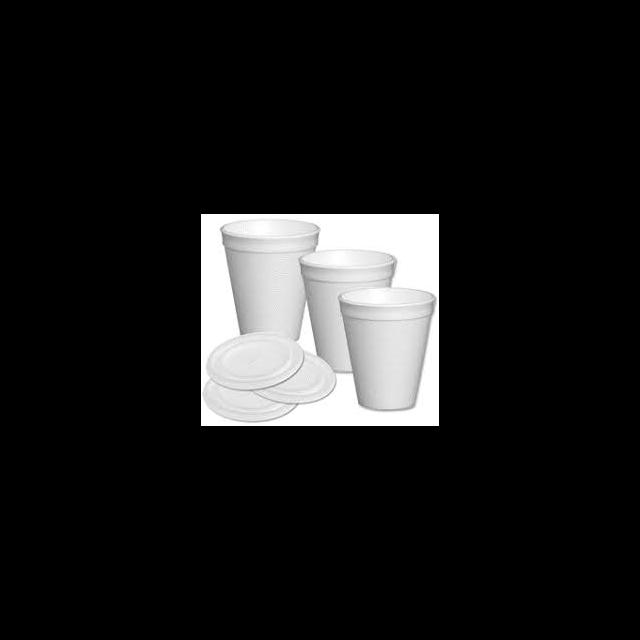paper: (219, 217, 318, 339), (297, 250, 395, 372), (339, 286, 435, 409)
plastic: (205, 329, 303, 389), (248, 350, 337, 402), (202, 378, 296, 419)
